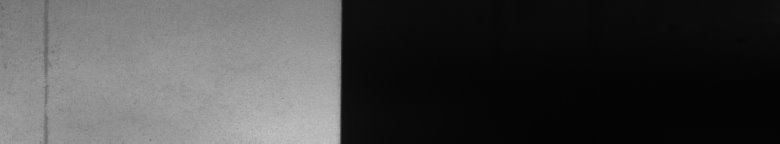hd: (40, 4, 54, 136)
